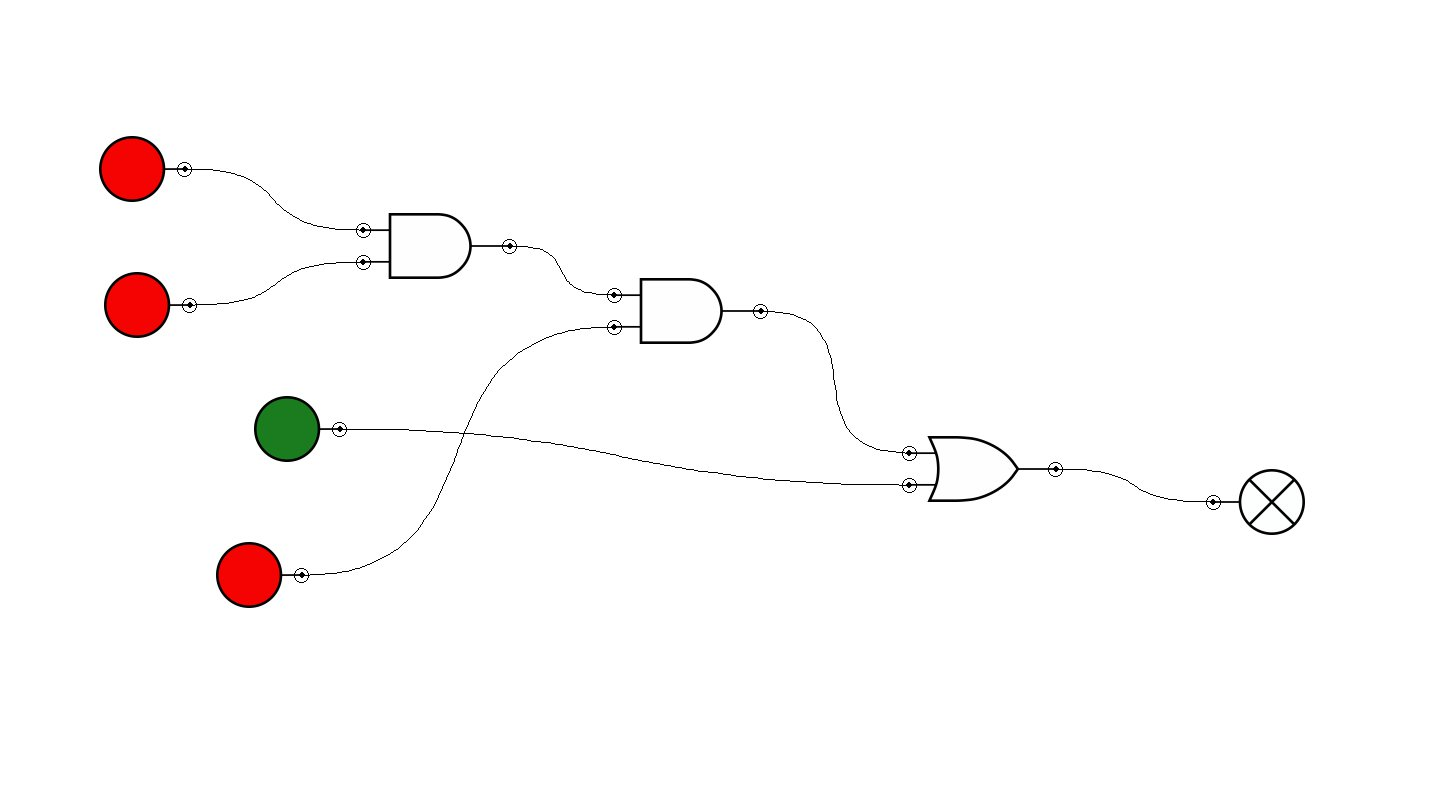and: (607, 278, 768, 344), (356, 213, 517, 279)
bulb: (1206, 469, 1305, 535)
or: (902, 436, 1063, 502)
switch_False: (216, 542, 309, 608), (104, 272, 197, 338), (99, 136, 192, 202)
switch_True: (254, 396, 347, 462)
